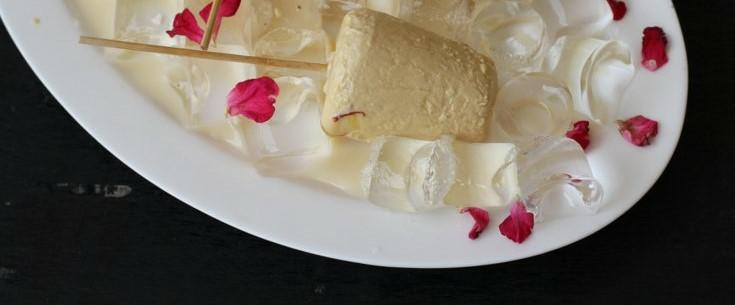Kulfi: (319, 6, 498, 143)
